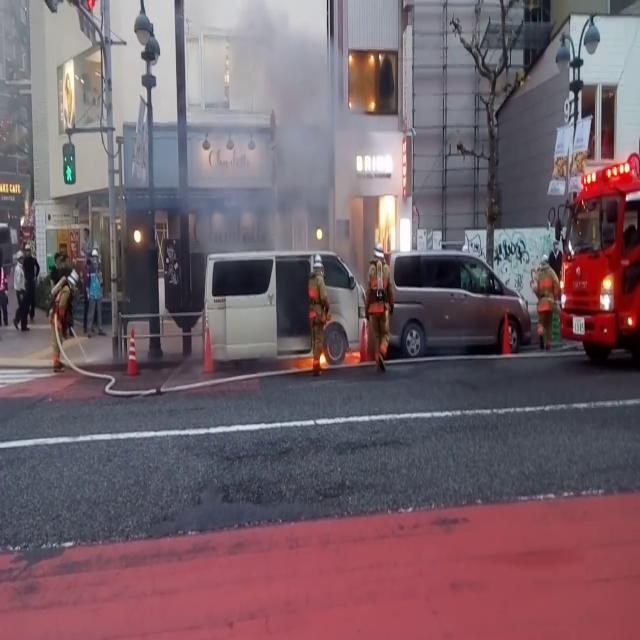Fire: (375, 190, 401, 250)
Smoke: (184, 2, 368, 252)
